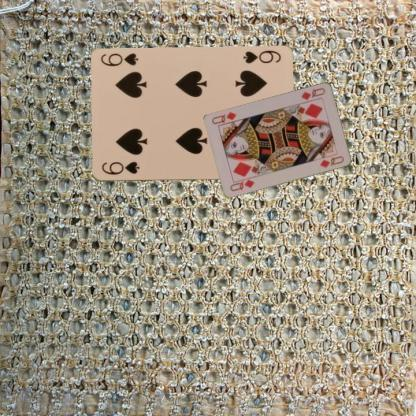6s: (240, 48, 282, 65), (99, 159, 140, 176)
Qd: (228, 174, 257, 192), (299, 85, 326, 101)
